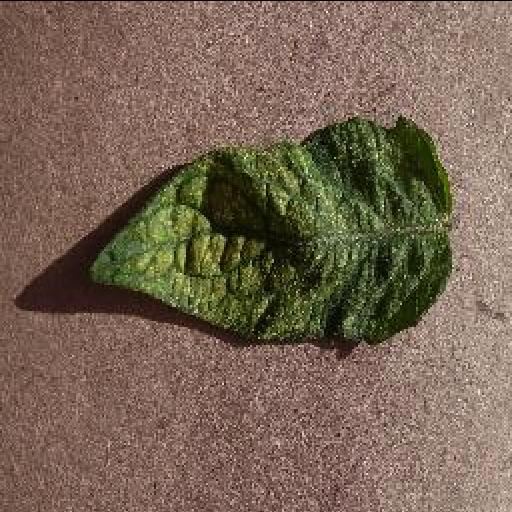disease_tomato: (82, 116, 454, 346)
